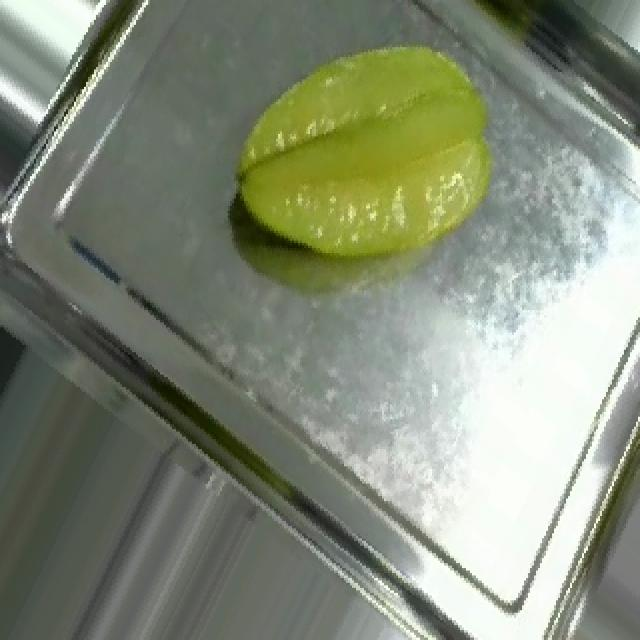fruit: (196, 0, 550, 335)
